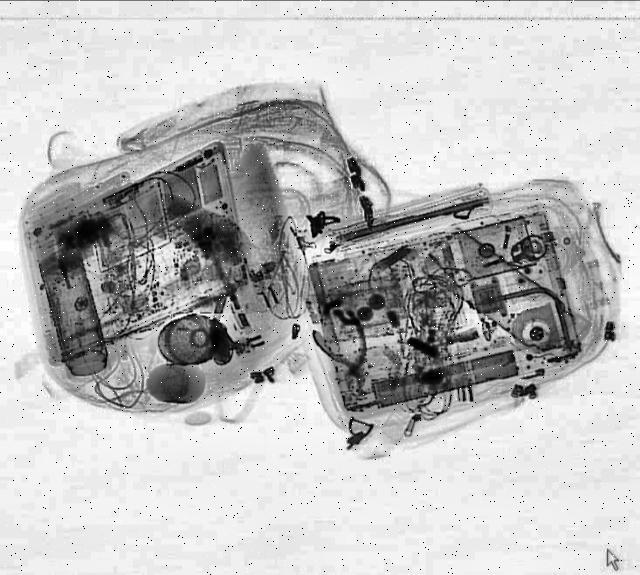Pliers: (310, 320, 382, 396)
